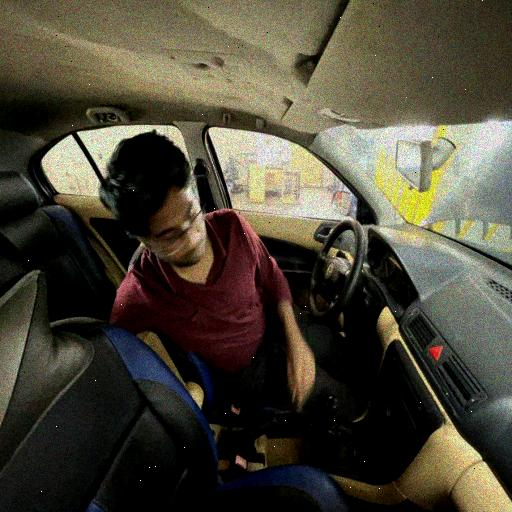Reaching_behind: (97, 126, 320, 432)
